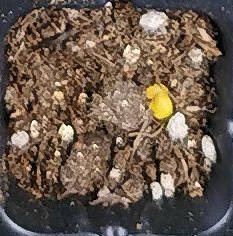pepper seed: (63, 31, 233, 150), (61, 32, 231, 132)
